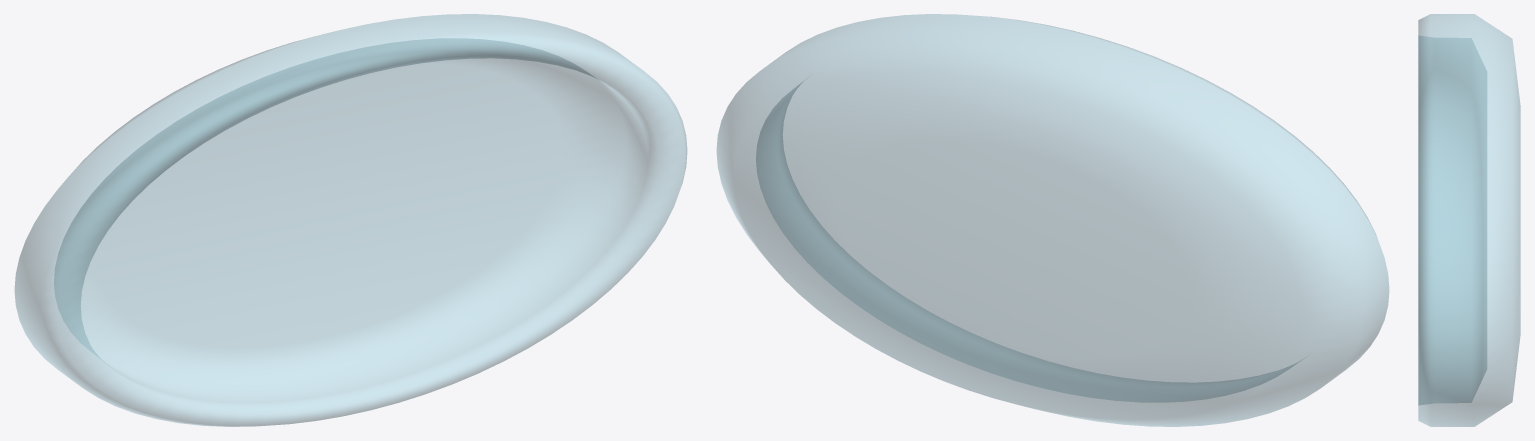
The picture shows the model from 3 angles, left to right: view 1: azimuth 30°, elevation 25°; view 2: azimuth 150°, elevation 25°; view 3: azimuth 270°, elevation 25°; orthographic projection. The views are drawn at different scales.
Visible parts, largest first — view 1: oval-tray; view 2: oval-tray; view 3: oval-tray.
Boxes of the visible parts, bbox=[...] form: oval-tray: bbox=[14, 14, 687, 426]; oval-tray: bbox=[716, 14, 1389, 426]; oval-tray: bbox=[1418, 14, 1520, 426].
Size of the model in its own units: 2.7 by 1.44 by 0.43.
